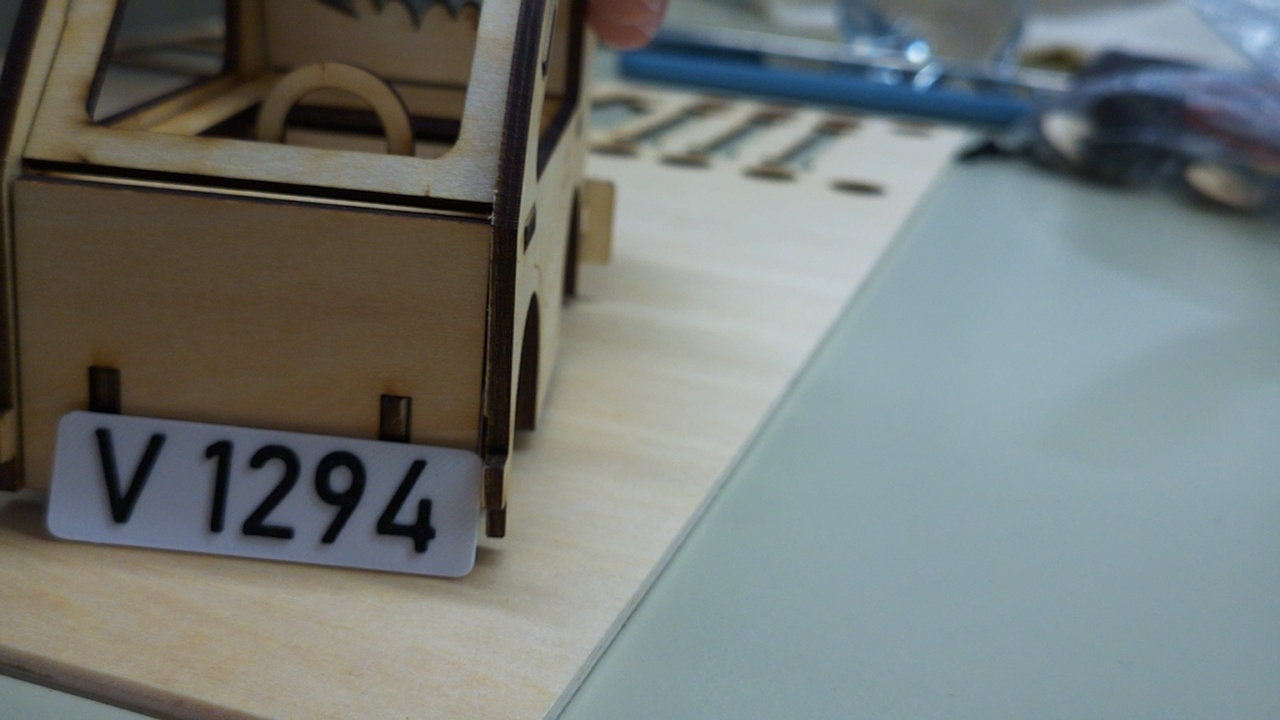license_plate: (42, 402, 494, 583)
